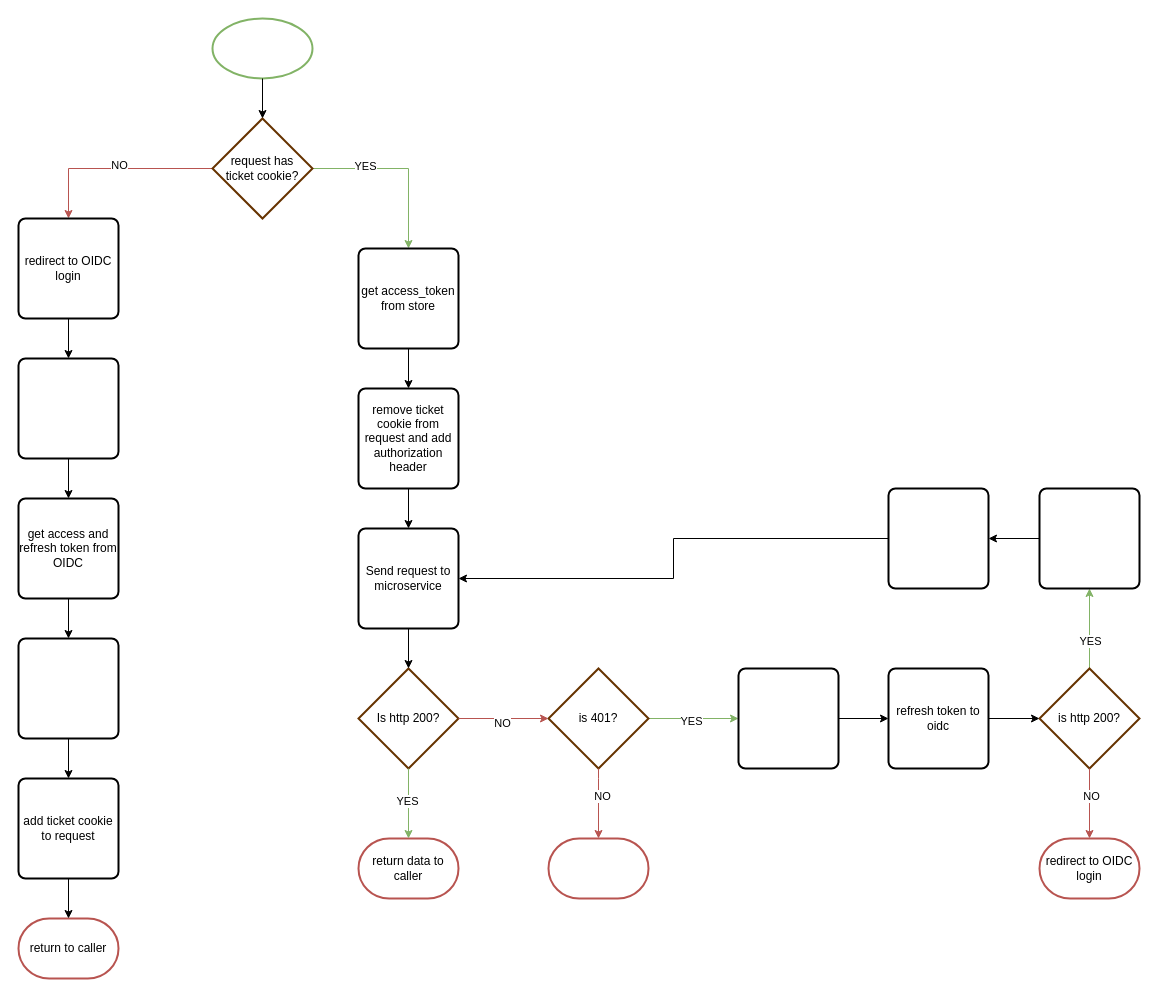
The diagram is 1157 pixels wide and 996 high, and some of its shapes have lost their labels. The shapes that lost their labels are listed below. From the top down, each one's centre as x and y in pixels, then its label:
point 262,48: Request /api
point 68,408: OIDC callback with auhtorization code
point 938,538: update token on request authorization
point 1089,538: update tokens on store
point 68,688: Save tokens on store
point 788,718: get refresh_token from store
point 598,868: Forward error to caller
